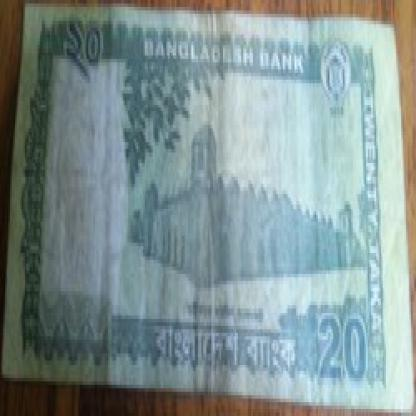Twenty: (313, 298, 369, 392), (50, 10, 106, 80)
